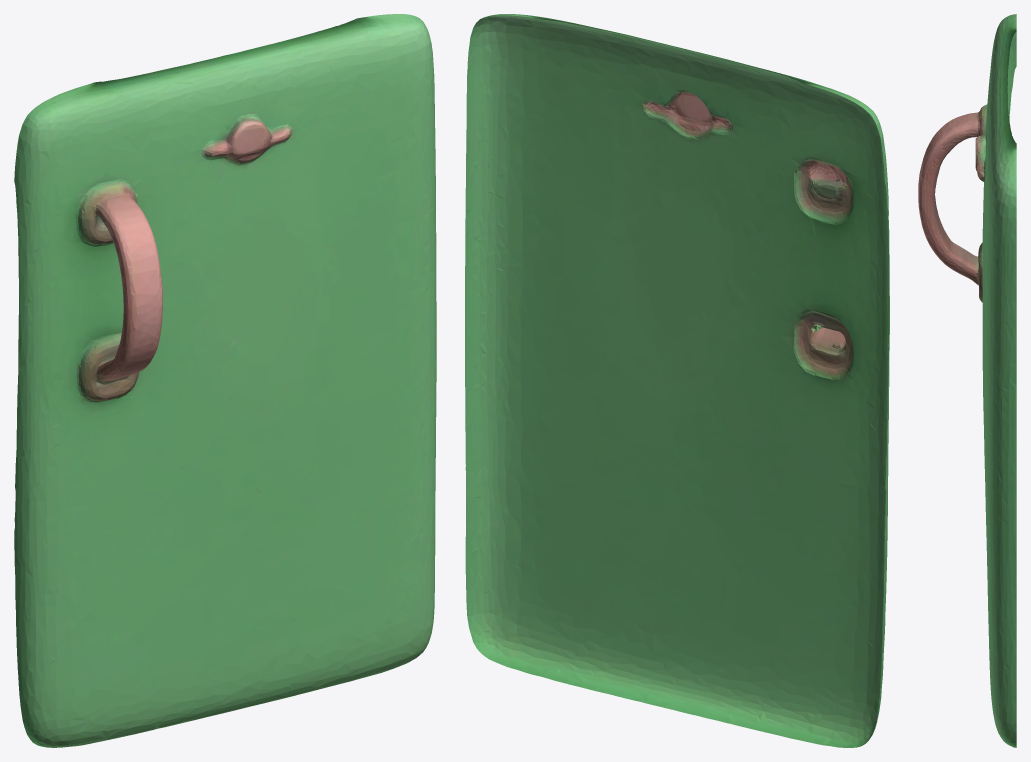
The model's file is refrigerator_door.glb.
3 renders of one model, left to right at view 1: azimuth 30°, elevation 25°; view 2: azimuth 150°, elevation 25°; view 3: azimuth 270°, elevation 25°, orthographic. The views are drawn at different scales.
Visible parts, largest first — view 1: source_surface_0; view 2: source_surface_0; view 3: source_surface_0.
Part boxes in pixels (box(x1,y1,x2,y2)): source_surface_0: box(14, 14, 436, 747); source_surface_0: box(465, 14, 889, 747); source_surface_0: box(918, 14, 1016, 747).
Size of the model in its own units: 1.37 by 2.05 by 0.3122.
1 material, 1 textured.
